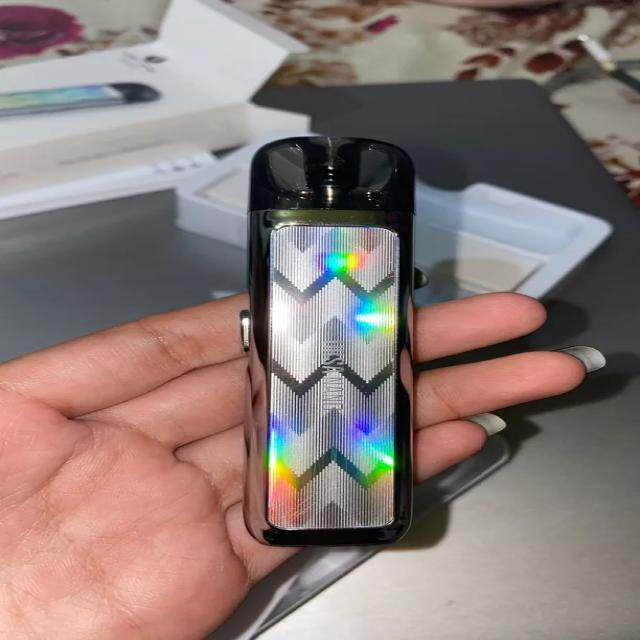Hazard: (243, 133, 418, 544)
